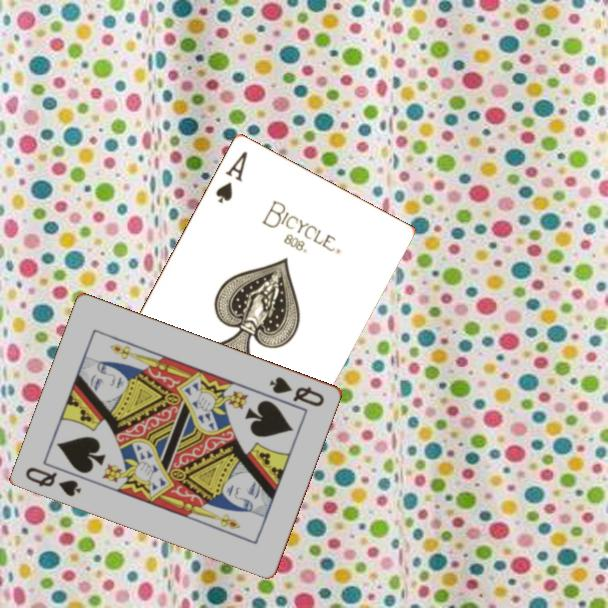s01: (212, 147, 251, 206)
s12: (22, 463, 85, 500), (266, 373, 328, 409)
